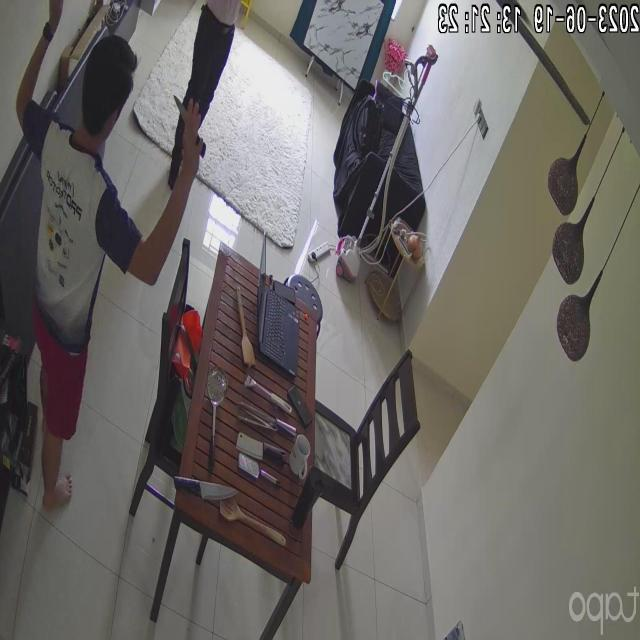Knife: (168, 89, 221, 157), (171, 467, 244, 508)
